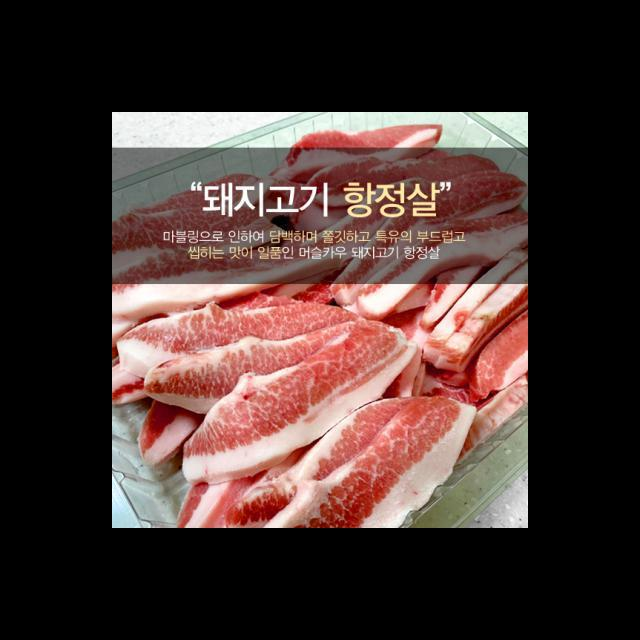pork: (130, 307, 528, 527)
